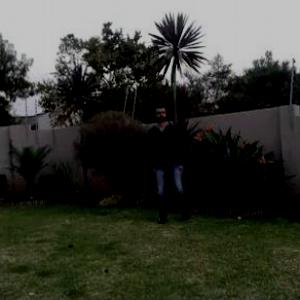follow: (149, 100, 185, 222)
